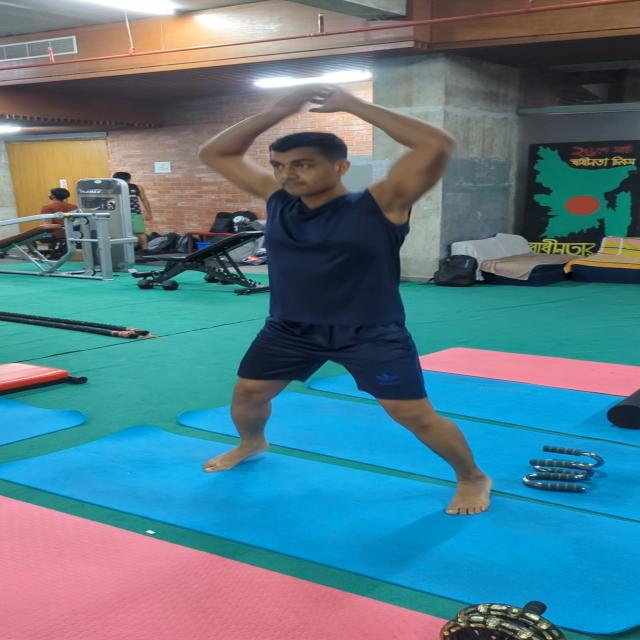Normal_JumpingJacks: (150, 59, 520, 539)
